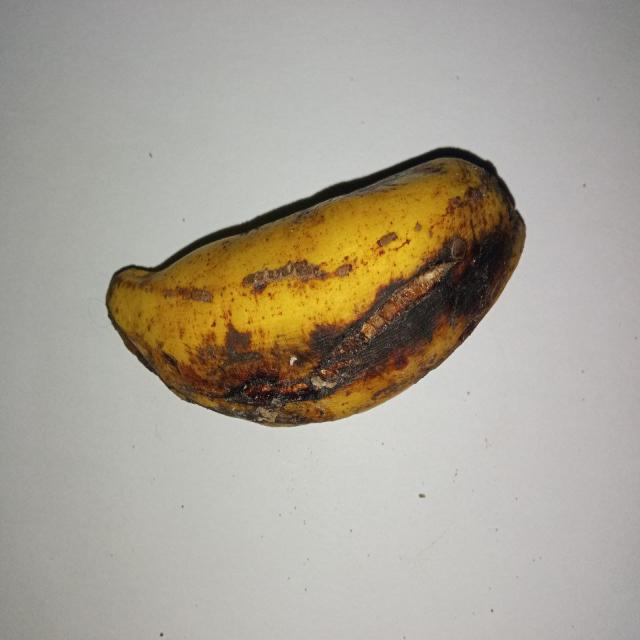rotten_banana: (108, 159, 523, 425)
